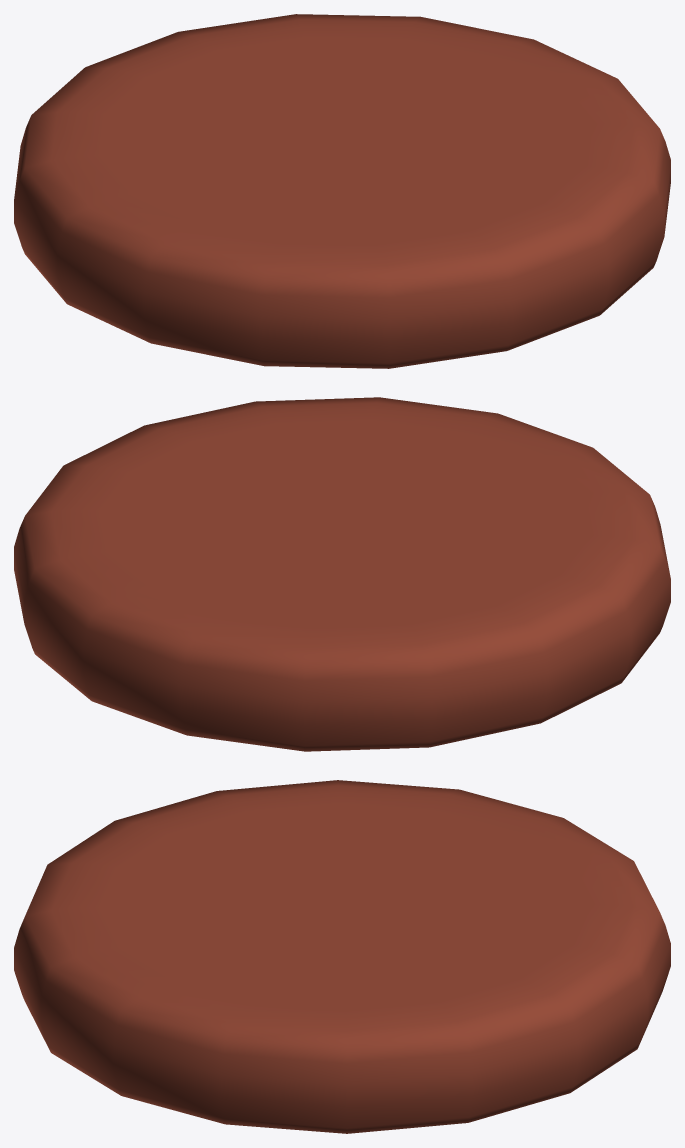
Rendered from patty.glb.
The picture shows the model from 3 angles, top to bottom: view 1: azimuth 30°, elevation 25°; view 2: azimuth 150°, elevation 25°; view 3: azimuth 270°, elevation 25°; orthographic projection.
Parts seen in each view (by area): view 1: patty; view 2: patty; view 3: patty.
Part boxes in pixels (x1,y1,x2,y2): patty: (14, 14, 670, 368); patty: (14, 397, 670, 751); patty: (14, 780, 670, 1133).
Bounding box in the file's own units: 0.6095 × 0.1044 × 0.6095.
